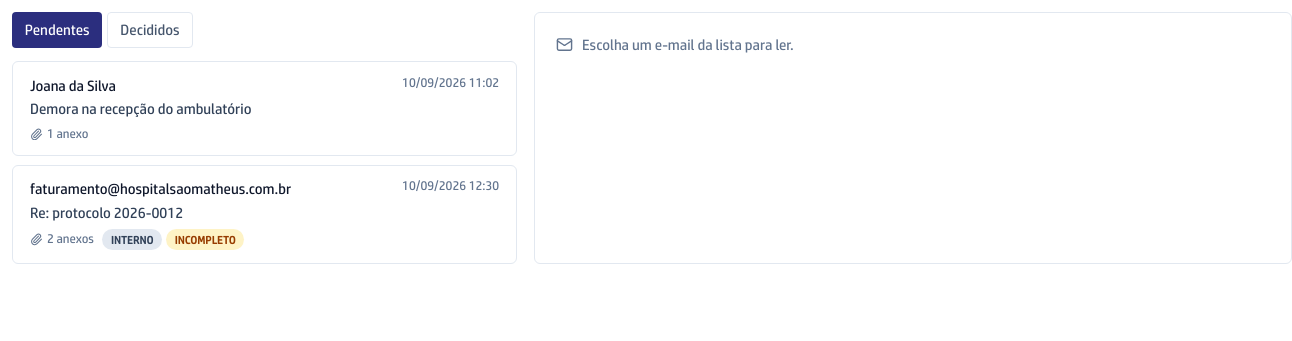
Test: o painel do item › anexo recusado pelo teto mostra o motivo no lugar do link
Click the button "Demora na recepção do ambulatório": (73, 85) [12,61,517,156]
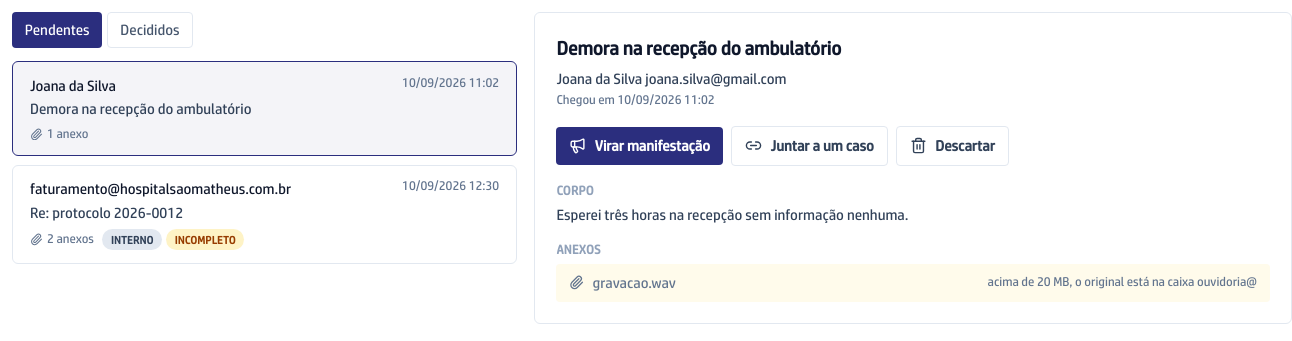
Expected: the text "gravacao.wav" is shown, [593,274,676,291]
Expected: the text "acima de 20 MB, o original está na caixa ouvidoria@" is shown, [988,274,1257,291]
